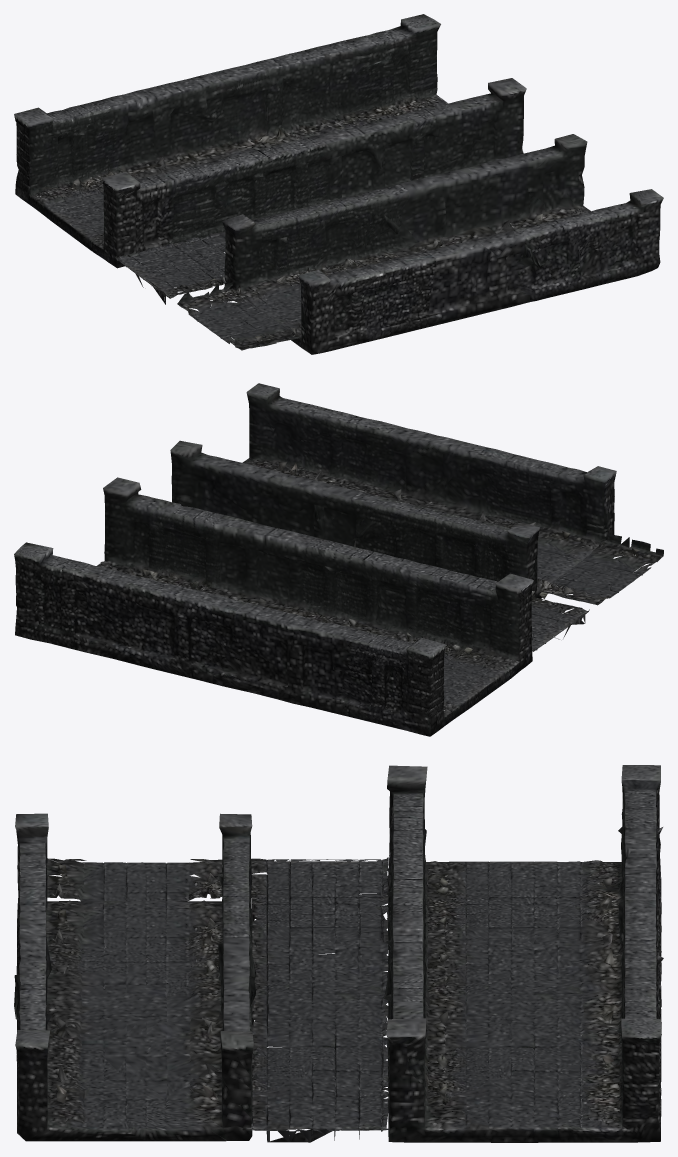
The model's file is tile.hallways.2.glb.
3 renders of one model, top to bottom at view 1: azimuth 30°, elevation 25°; view 2: azimuth 150°, elevation 25°; view 3: azimuth 270°, elevation 25°, orthographic. The views are drawn at different scales.
Visible parts, largest first — view 1: tripo_node_d5a24da4-df2b-4f10-9470-0b1306f8a114; view 2: tripo_node_d5a24da4-df2b-4f10-9470-0b1306f8a114; view 3: tripo_node_d5a24da4-df2b-4f10-9470-0b1306f8a114.
Part boxes in pixels (<box>): tripo_node_d5a24da4-df2b-4f10-9470-0b1306f8a114: <box>14,14,663,354</box>; tripo_node_d5a24da4-df2b-4f10-9470-0b1306f8a114: <box>14,383,663,736</box>; tripo_node_d5a24da4-df2b-4f10-9470-0b1306f8a114: <box>14,765,663,1142</box>.
Bounding box in the file's own units: 0.9667 × 0.1821 × 0.9796.
Materials: 1 (1 with a texture image).
